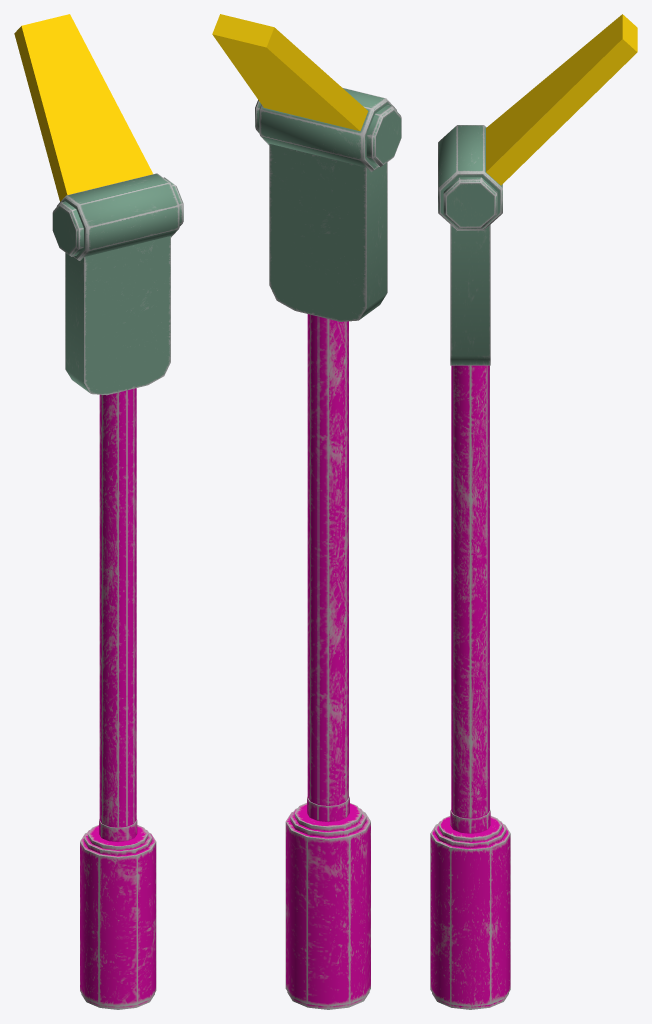
File: Farola.fbx
The picture shows the model from 3 angles, left to right: view 1: azimuth 30°, elevation 25°; view 2: azimuth 150°, elevation 25°; view 3: azimuth 270°, elevation 25°; orthographic projection. The views are drawn at different scales.
Visible parts, largest first — view 1: Farola; view 2: Farola; view 3: Farola.
Boxes of the visible parts, left/top/right/bottom form: Farola: left=14, top=14, right=183, bottom=1009; Farola: left=212, top=14, right=401, bottom=1009; Farola: left=430, top=14, right=637, bottom=1009.
Size of the model in its own units: 58.22 by 476 by 92.39.
